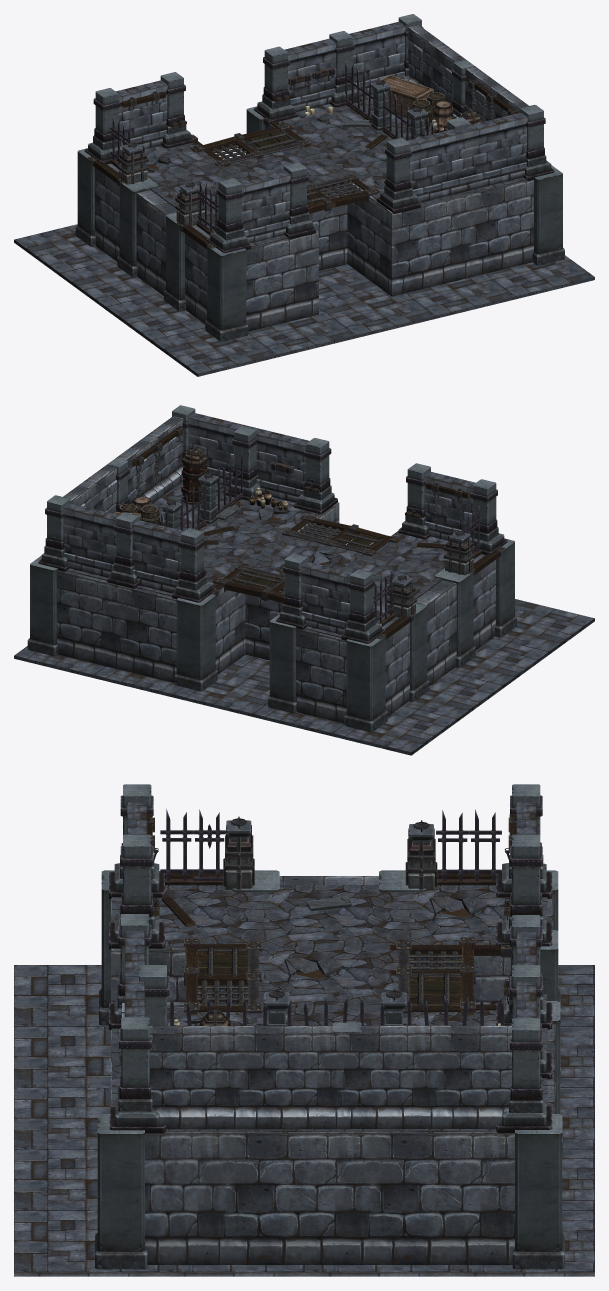
The model's file is cell3UD.fbx.
The picture shows the model from 3 angles, top to bottom: view 1: azimuth 30°, elevation 25°; view 2: azimuth 150°, elevation 25°; view 3: azimuth 270°, elevation 25°; orthographic projection. The views are drawn at different scales.
Parts seen in each view (by area): view 1: cell3UD; view 2: cell3UD; view 3: cell3UD.
Part boxes in pixels (bbox=[...]): cell3UD: bbox=[14, 14, 594, 376]; cell3UD: bbox=[14, 405, 594, 755]; cell3UD: bbox=[14, 784, 594, 1276].
Bounding box in the file's own units: 22.17 × 7.9 × 17.74.
